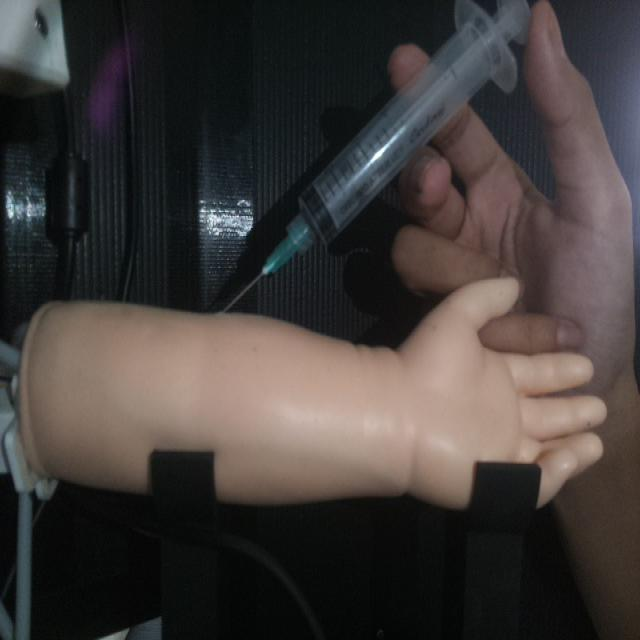Outside: (218, 0, 534, 318)
